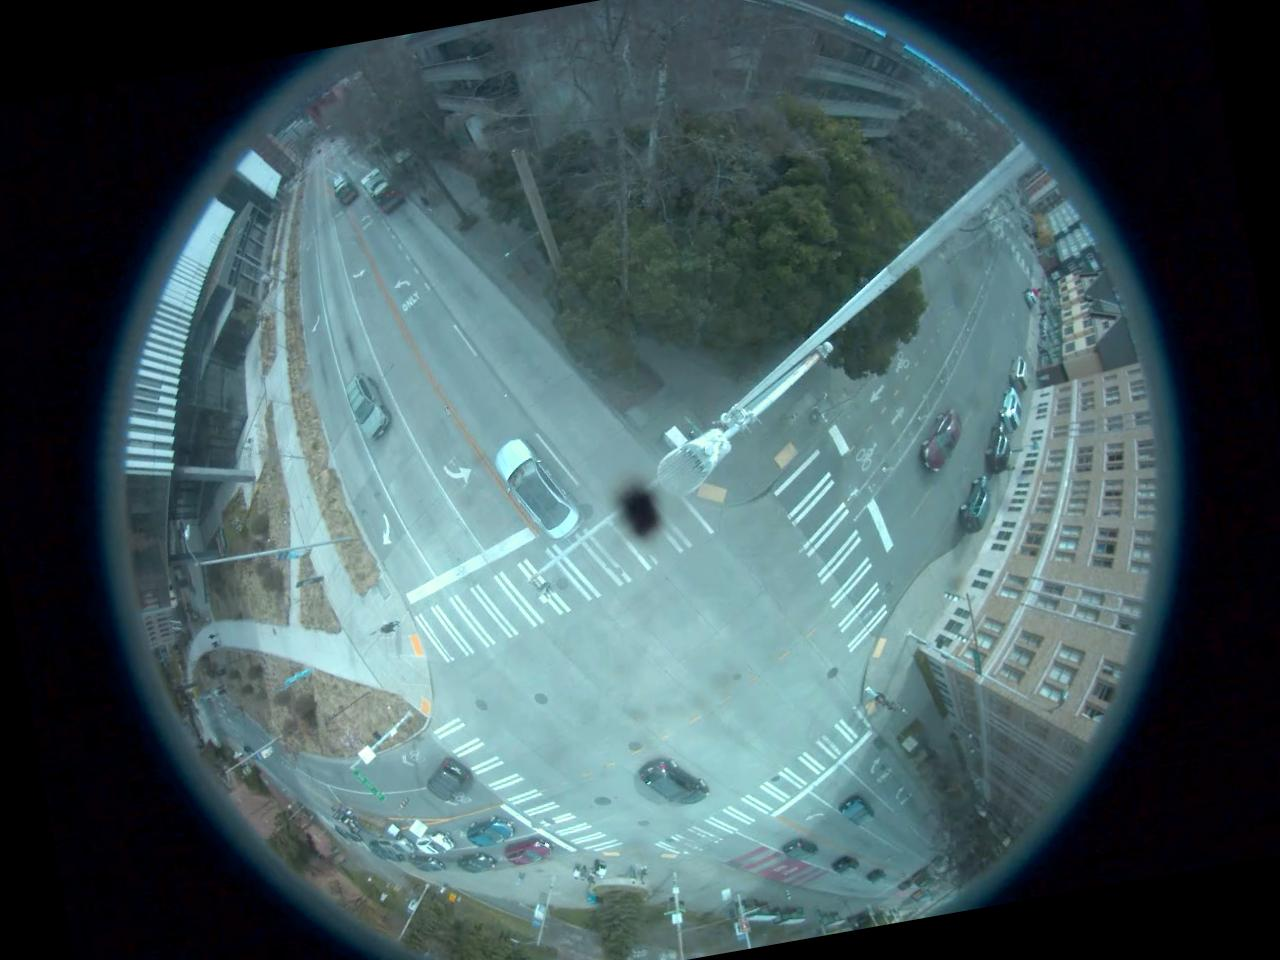bus: (356, 159, 404, 218)
car: (489, 428, 580, 547), (636, 752, 710, 815), (342, 368, 391, 444), (915, 406, 964, 474), (420, 753, 470, 804), (955, 478, 999, 534), (499, 832, 555, 867), (981, 420, 1015, 474), (467, 814, 512, 848), (995, 384, 1025, 431), (775, 836, 818, 866), (415, 828, 457, 858), (1001, 353, 1031, 395), (378, 827, 417, 859), (456, 849, 499, 878), (404, 851, 444, 880), (844, 797, 875, 828), (828, 854, 862, 878)
person: (374, 616, 402, 636), (864, 682, 884, 708), (878, 688, 896, 714), (624, 865, 640, 889), (636, 864, 654, 885), (596, 858, 610, 880), (586, 856, 599, 878), (568, 864, 582, 880), (586, 868, 598, 886), (579, 864, 589, 884)
